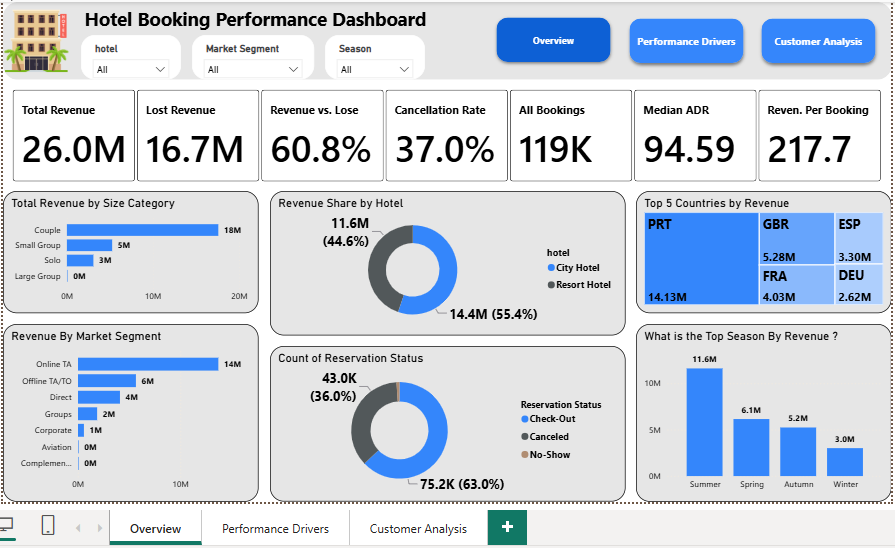

The page's visual inventory and layout, read from the dashboard file:
{"tool":"powerbi","page":{"name":"Overview","canvas":[1280,720],"ordinal":0},"visuals":[{"type":"shape","box":[0,0,1280,112],"z":0},{"type":"textbox","box":[112,0,544,48],"z":1000},{"type":"slicer","fields":{"Values":["Dim_Date.Season"]},"box":[464,48,144,64],"z":2000},{"type":"slicer","fields":{"Values":["Dim_Hotel.hotel"]},"box":[112,48,144,64],"z":3000},{"type":"slicer","fields":{"Values":["Fact_Bookings.Lead_Time_Bucket"]},"box":[272,48,176,64],"z":4000},{"type":"cardVisual","title":"Total Revenue","fields":{"Data":["_Measures.Total Revenue","_Measures.Total Lose","_Measures.Revenue vs. Lose","_Measures.Cancellation Rate","_Measures.All Bookings","_Measures.Median ADR","_Measures.Revenue Per Bookking"]},"box":[0,112,1280,160],"z":5000},{"type":"columnChart","title":"What is the Top Season By Revenue ?","fields":{"Y":["_Measures.Total Revenue"],"Category":["Dim_Date.Season"]},"box":[912,464,368,256],"z":6000},{"type":"donutChart","title":"Revenue Share by Hotel","fields":{"Category":["Dim_Hotel.hotel"],"Y":["_Measures.Total Revenue"]},"box":[384,272,512,208],"z":7000},{"type":"barChart","title":"Revenue By Market Segment","fields":{"Category":["Dim_MarketSegment.market_segment"],"Y":["_Measures.Total Revenue"]},"box":[0,464,368,256],"z":8000},{"type":"barChart","title":"Total Revenue by Size Category","fields":{"Category":["Fact_Bookings.Party_Size_Category"],"Y":["_Measures.Total Revenue"]},"box":[0,272,368,176],"z":9000},{"type":"treemap","title":"Top 5 Countries by Revenue","fields":{"Group":["Fact_Bookings.country"],"Values":["Sum(Fact_Bookings.Total Revenue)"]},"box":[912,272,368,176],"z":10000},{"type":"donutChart","title":"Count of Reservation Status","fields":{"Category":["Fact_Bookings.reservation_status"],"Y":["CountNonNull(Fact_Bookings.hotel)"]},"box":[384,496,512,224],"z":11000},{"type":"pageNavigator","box":[704,16,560,80],"z":12000},{"type":"image","box":[0,0,96,112],"z":13000}]}

Visuals, with their boxes on the page's 1280x720 design canvas (x1, y1, x2, y2). These are canvas units, not pixel positions in the 895x548 screenshot, which may show the page scaled, cropped or inside an application window:
shape: [x1=0, y1=0, x2=1280, y2=112]
textbox: [x1=112, y1=0, x2=656, y2=48]
slicer - Dim_Date.Season: [x1=464, y1=48, x2=608, y2=112]
slicer - Dim_Hotel.hotel: [x1=112, y1=48, x2=256, y2=112]
slicer - Fact_Bookings.Lead_Time_Bucket: [x1=272, y1=48, x2=448, y2=112]
"Total Revenue" cardVisual: [x1=0, y1=112, x2=1280, y2=272]
"What is the Top Season By Revenue ?" columnChart: [x1=912, y1=464, x2=1280, y2=720]
"Revenue Share by Hotel" donutChart: [x1=384, y1=272, x2=896, y2=480]
"Revenue By Market Segment" barChart: [x1=0, y1=464, x2=368, y2=720]
"Total Revenue by Size Category" barChart: [x1=0, y1=272, x2=368, y2=448]
"Top 5 Countries by Revenue" treemap: [x1=912, y1=272, x2=1280, y2=448]
"Count of Reservation Status" donutChart: [x1=384, y1=496, x2=896, y2=720]
pageNavigator: [x1=704, y1=16, x2=1264, y2=96]
image: [x1=0, y1=0, x2=96, y2=112]
